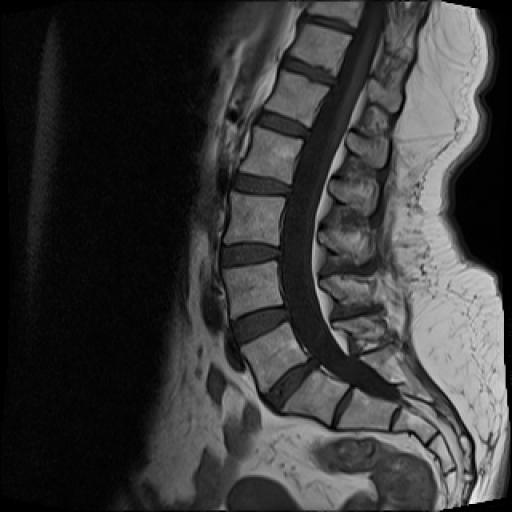L1: (265, 70, 329, 130)
L2: (240, 128, 302, 182)
L3: (222, 190, 285, 246)
L4: (223, 261, 283, 320)
L5: (242, 323, 307, 392)
S1: (282, 370, 349, 426)
